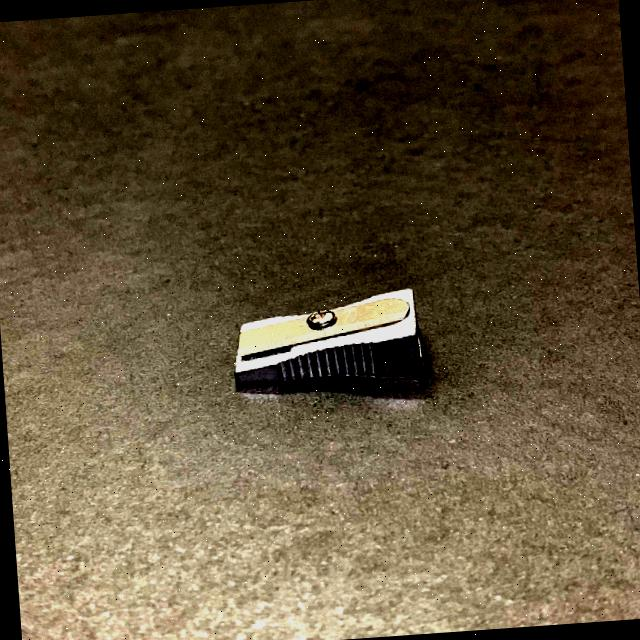Sharpner: (212, 252, 462, 416)
